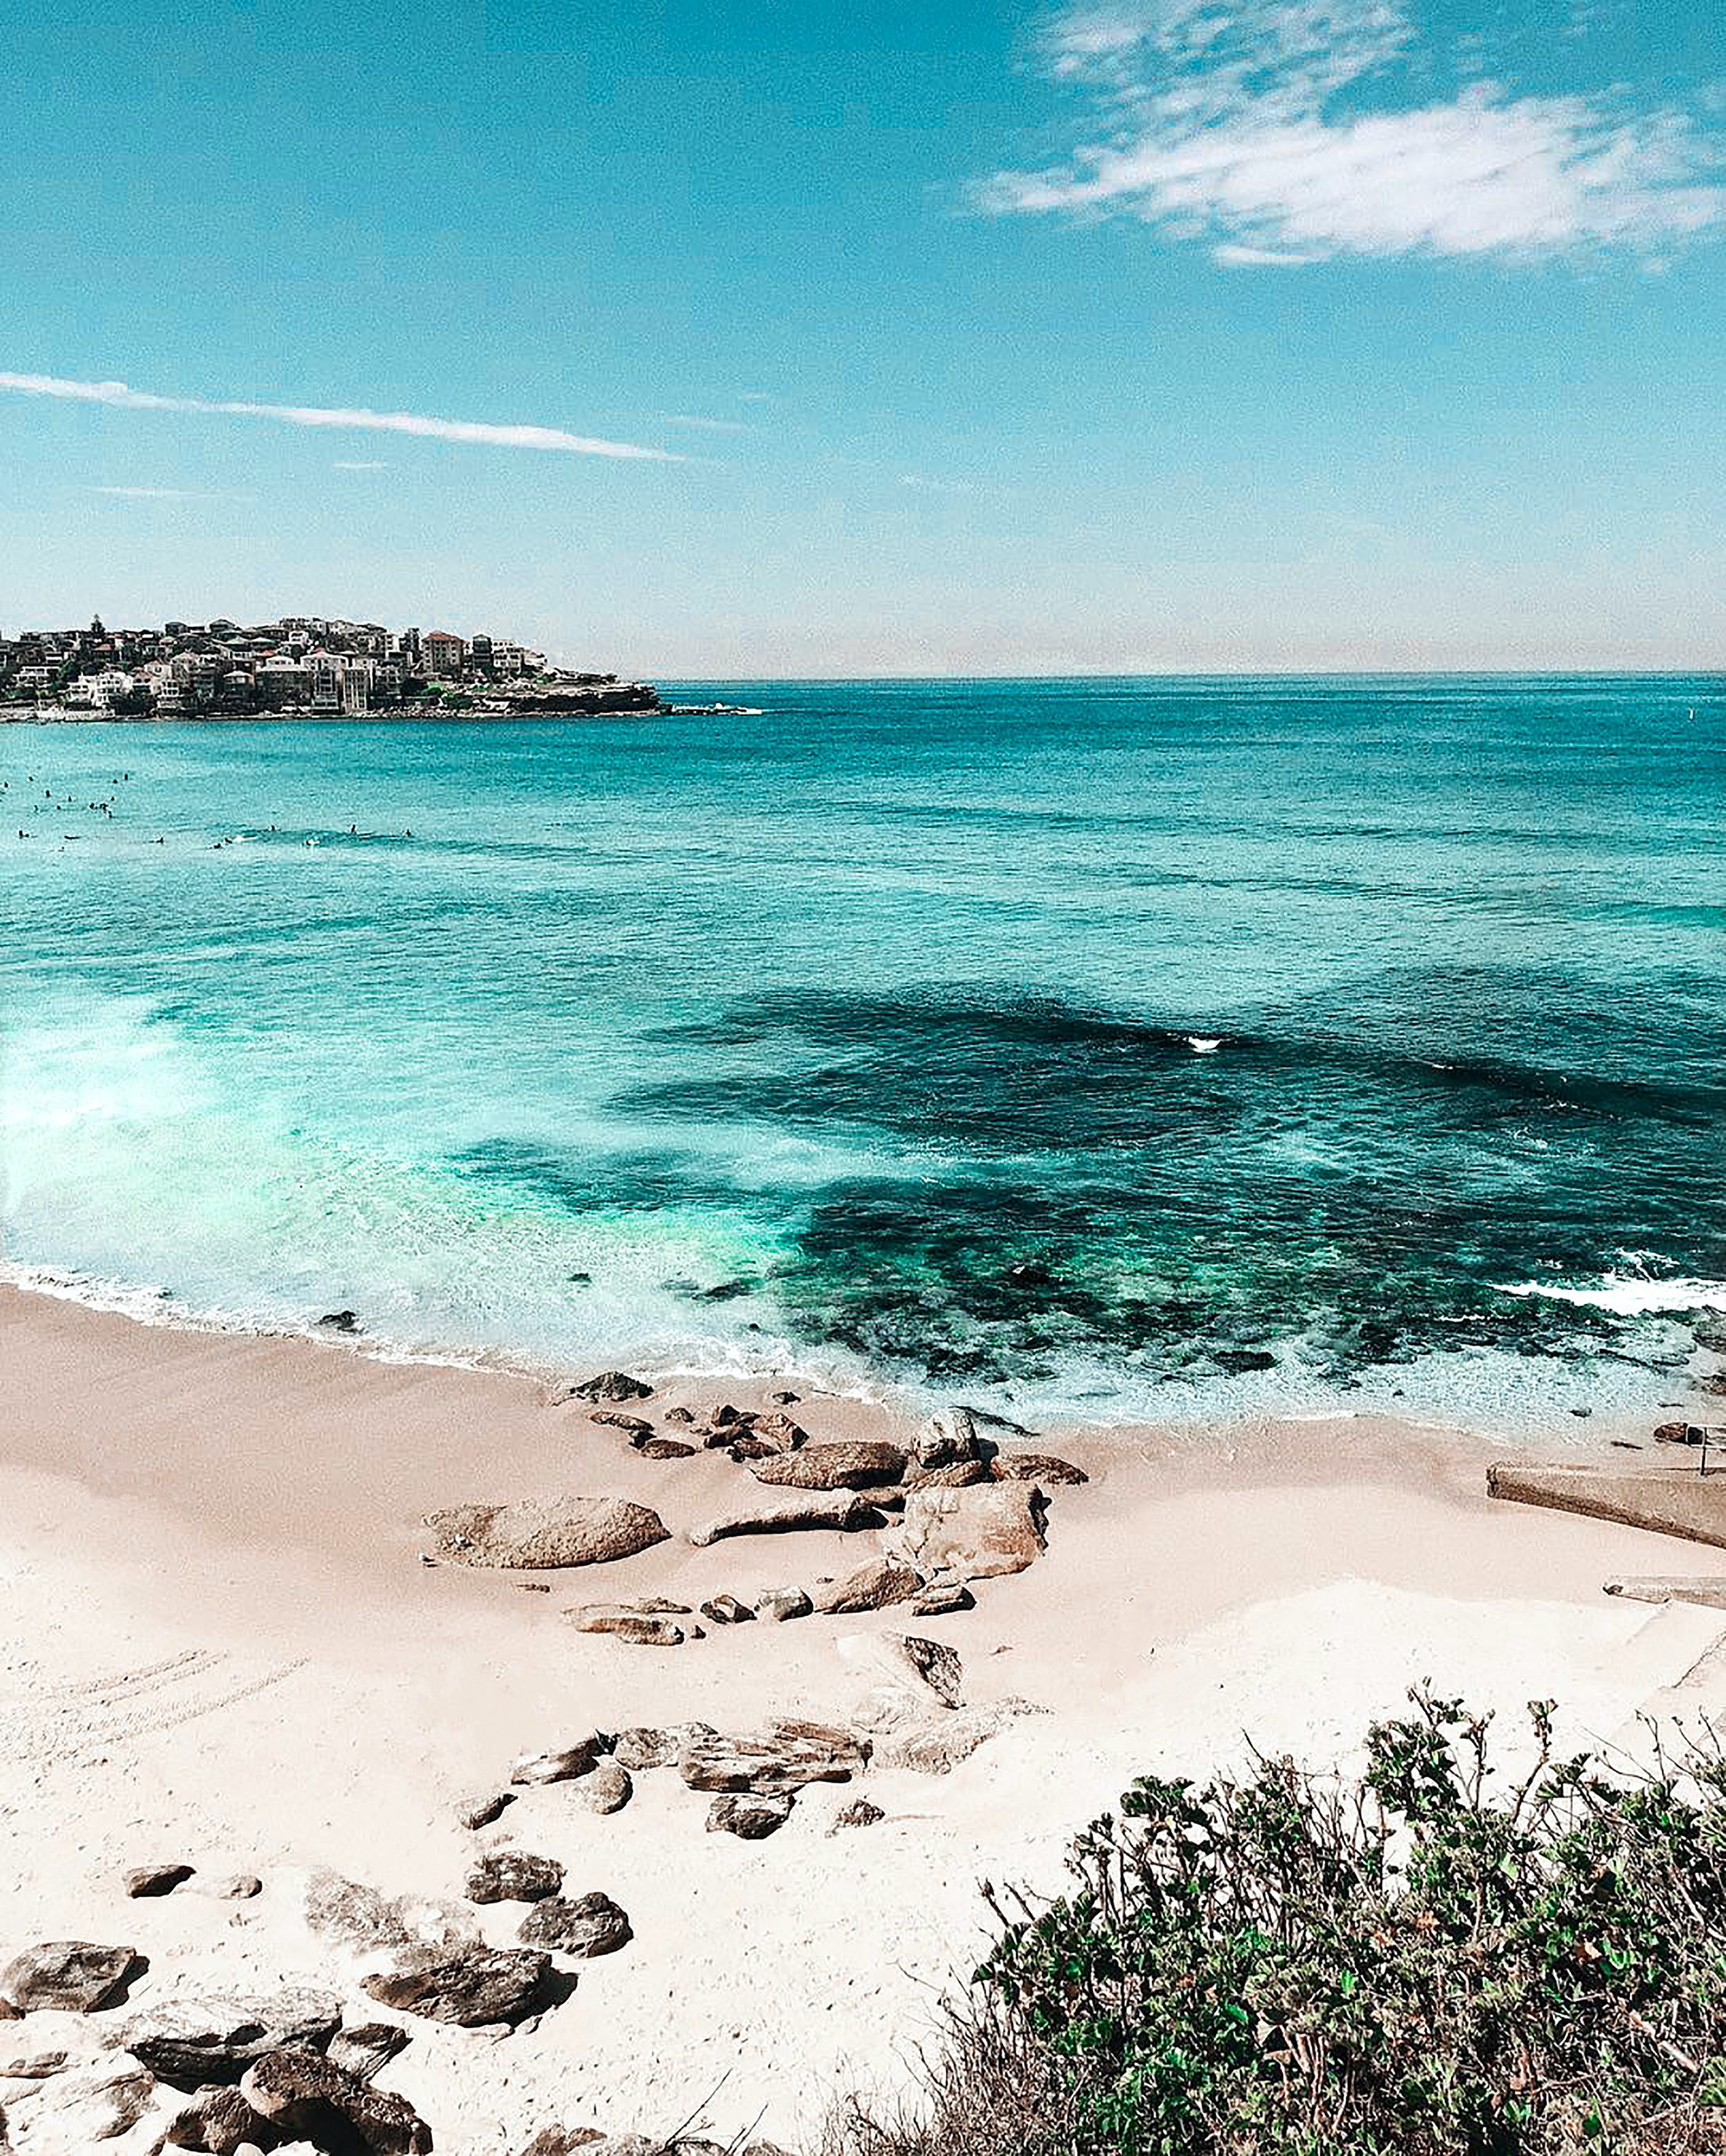Cumulus: (988, 4, 1714, 365)
